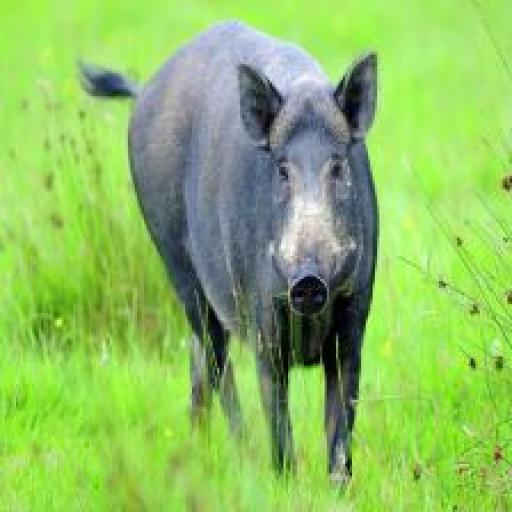Pig: (78, 20, 379, 476)
